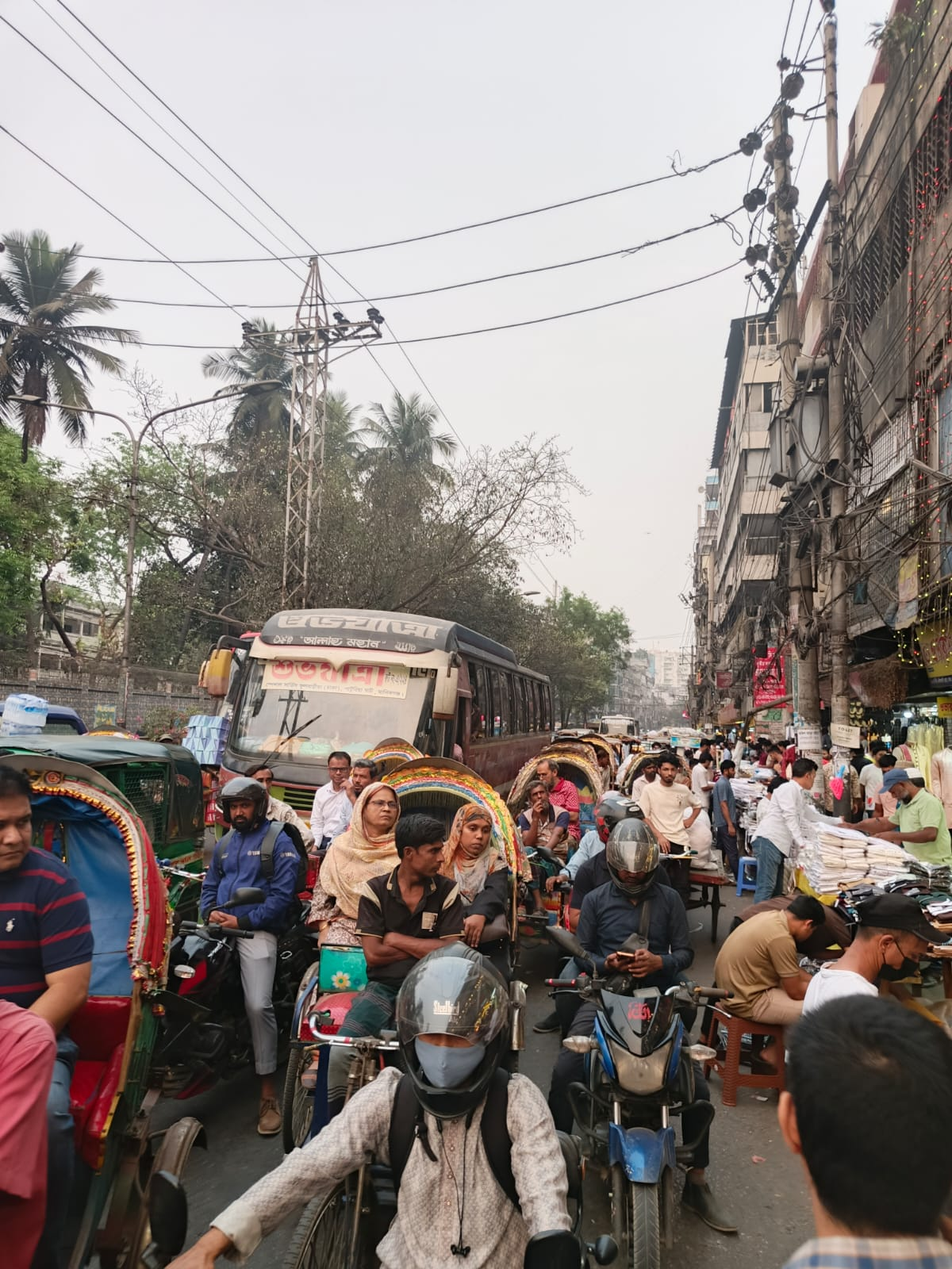Bikes: (537, 804, 740, 1269), (270, 984, 586, 1269), (169, 790, 300, 1132)
Bus: (233, 532, 565, 832)
auto-ricksaw: (8, 741, 161, 1269), (325, 759, 533, 1022), (500, 693, 614, 883)
cng: (0, 698, 209, 889)
